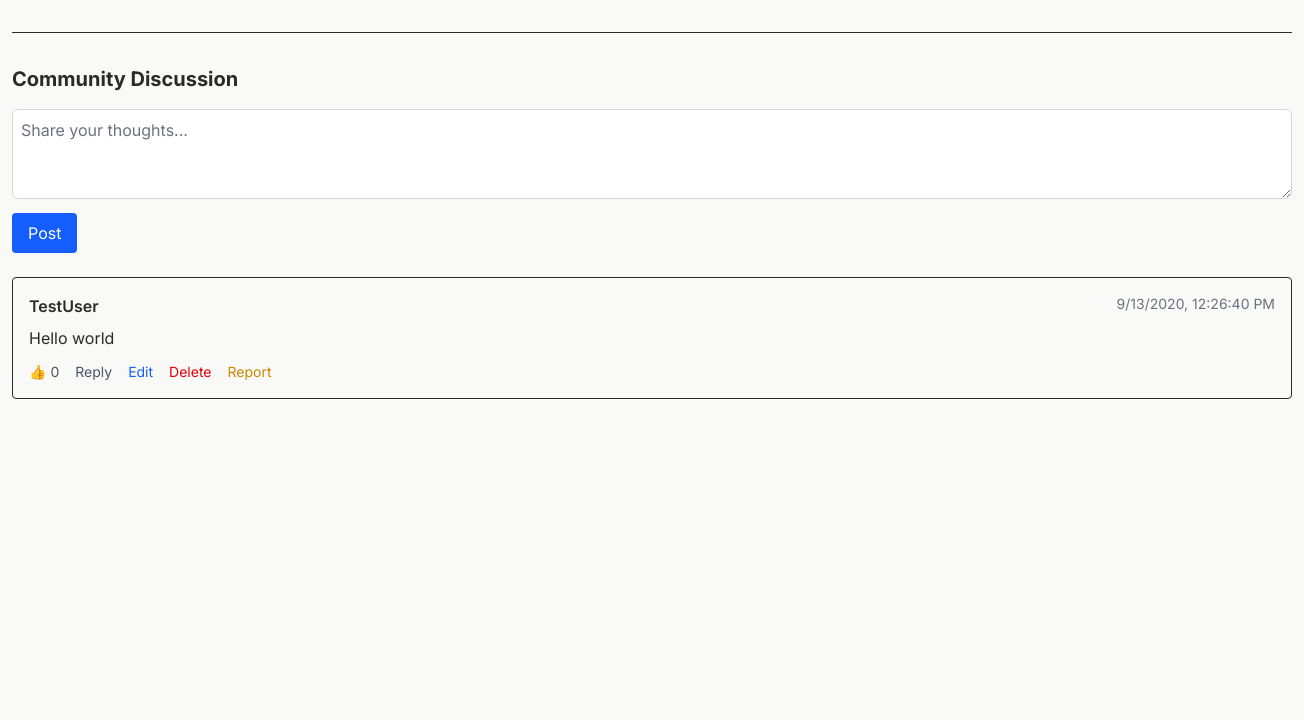
Test case: CommunityDiscussion › handles rejected reply error
This screenshot has width=1304, height=720.
Check: the text "Hello world" is shown, box [29,328,114,348]
Click the button "Reply": (94, 372) [75,362,112,382]
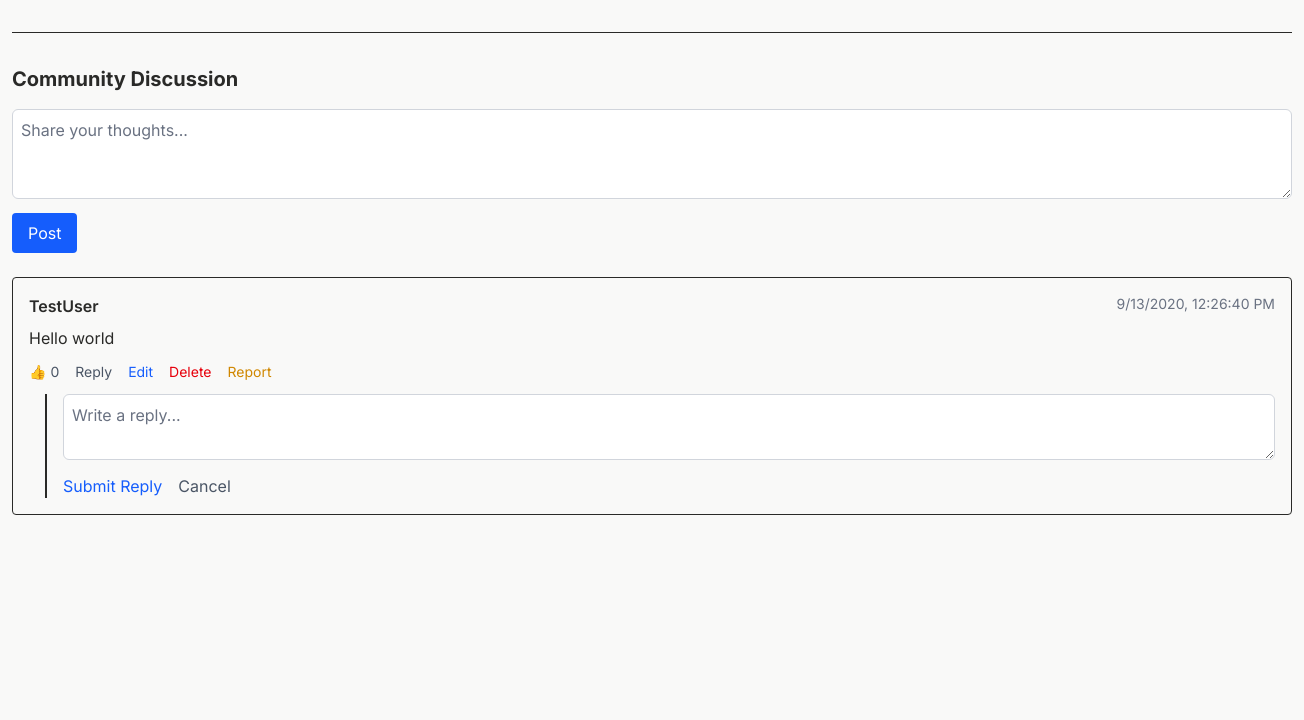
In the text box named "New reply": (669, 427) [63,394,1275,460], type "My reply"
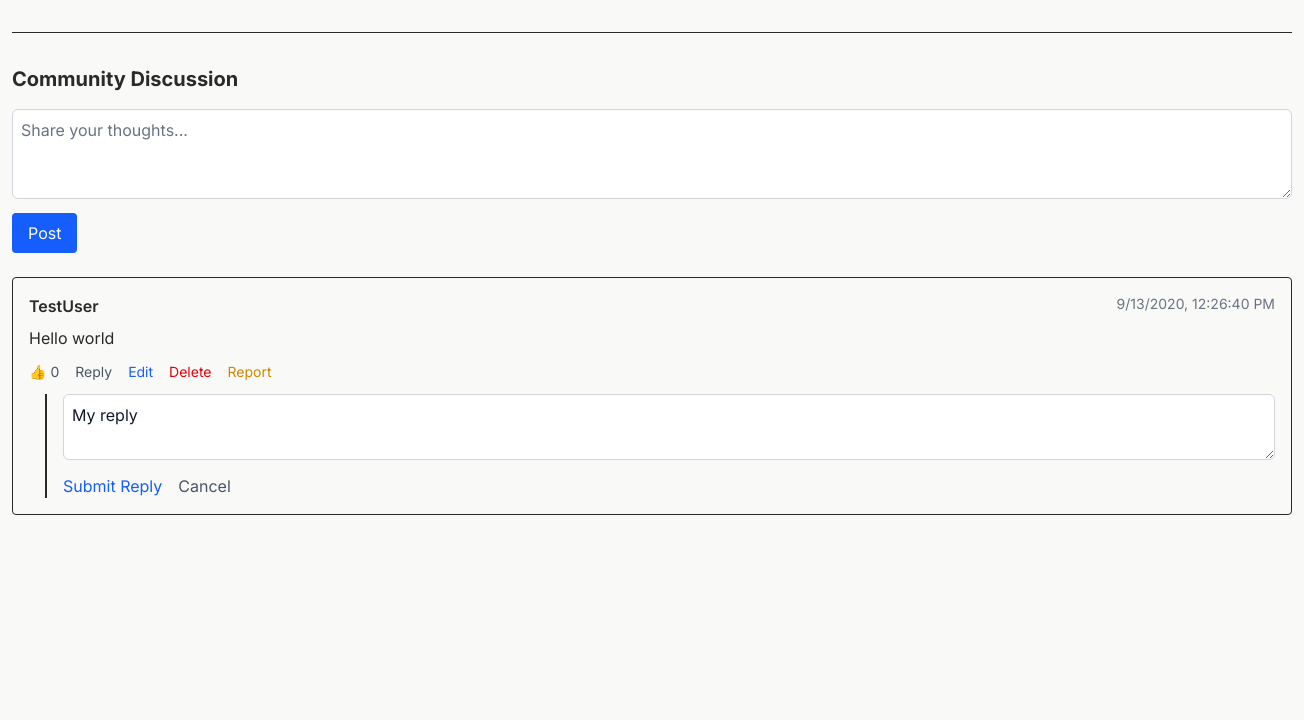
Click the button "Submit Reply": (113, 486) [63,474,162,498]
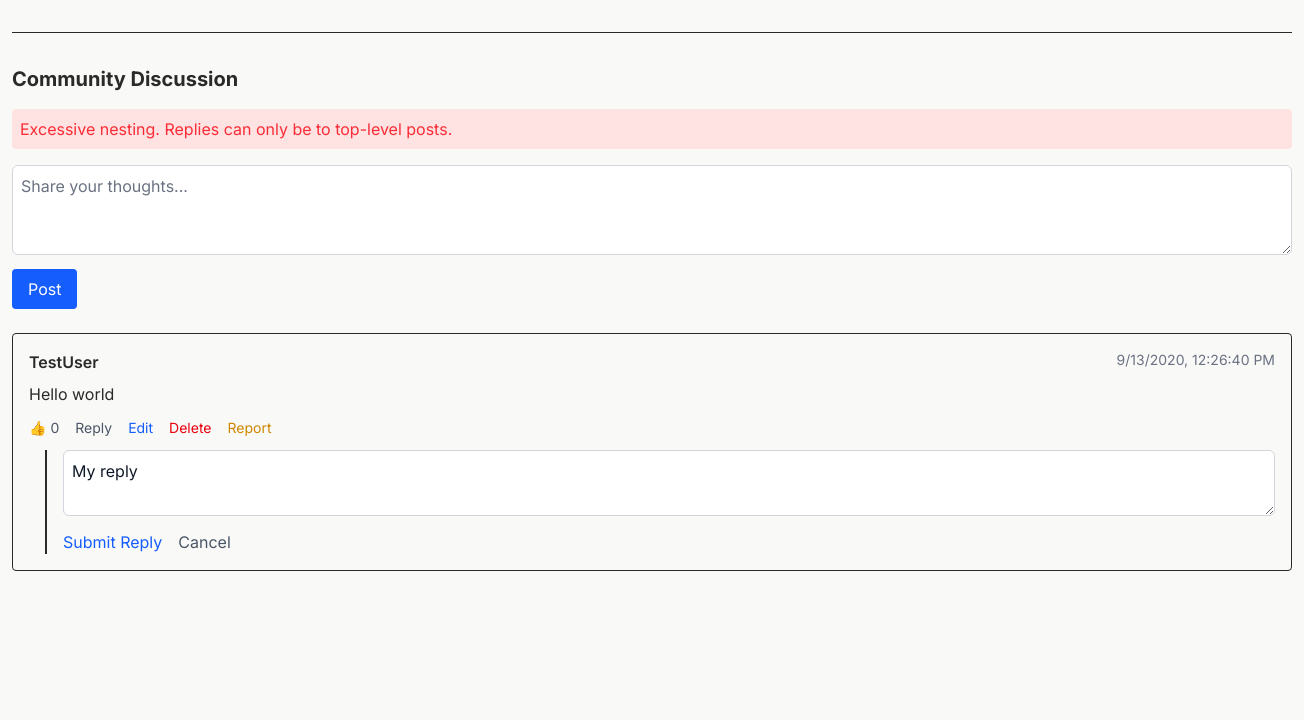
Check: the message shows "Excessive nesting", box [20,119,452,139]
